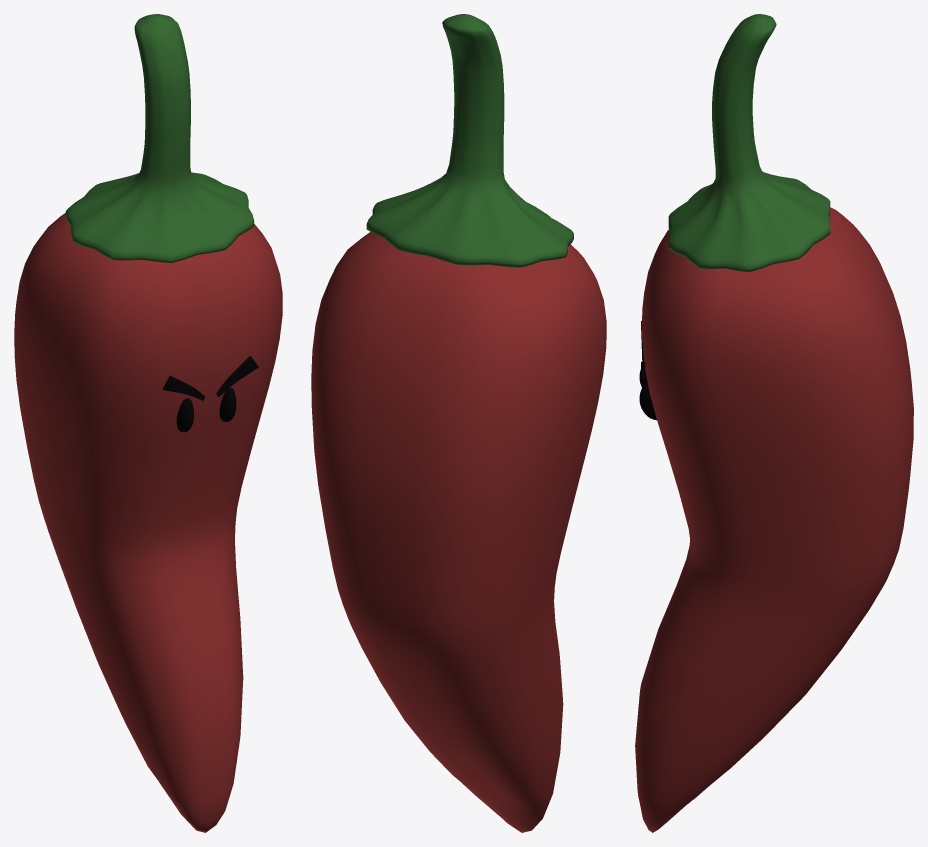
File: Chilli running around.fbx
The picture shows the model from 3 angles, left to right: view 1: azimuth 30°, elevation 25°; view 2: azimuth 150°, elevation 25°; view 3: azimuth 270°, elevation 25°; orthographic projection. The views are drawn at different scales.
Parts seen in each view (by area): view 1: Pepper; view 2: Pepper; view 3: Pepper.
Boxes of the visible parts, box(x1,y1,x2,y2) form: Pepper: box(14, 14, 282, 832); Pepper: box(311, 14, 606, 832); Pepper: box(635, 14, 913, 832).
Bounding box in the file's own units: 1.43 × 4.86 × 1.5.
